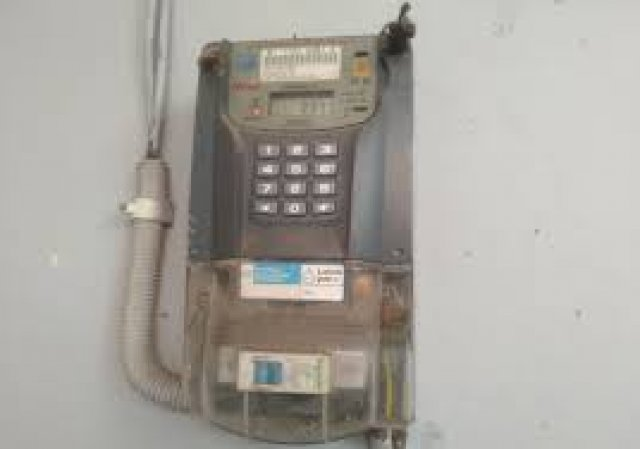box: (269, 91, 337, 116)
